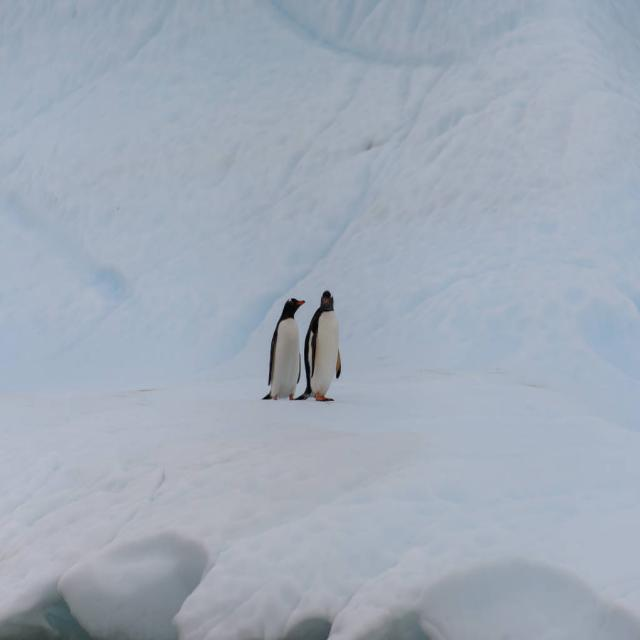Penguins: (257, 284, 308, 403), (300, 284, 348, 406)
